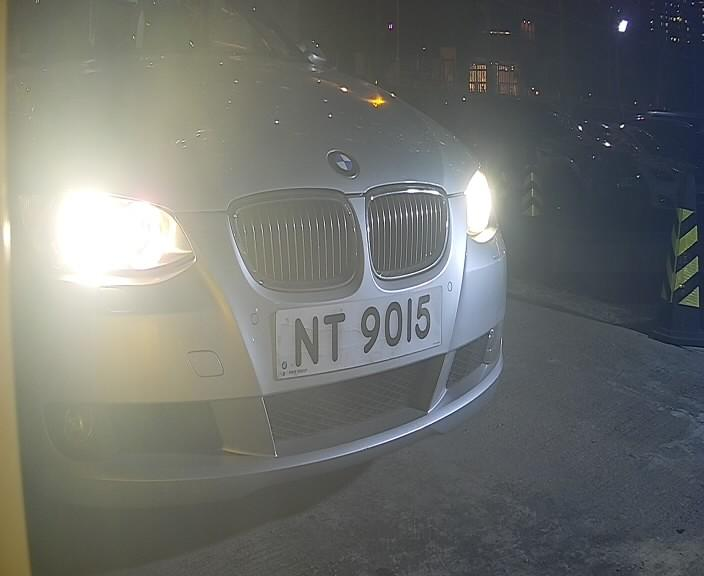Car: (7, 26, 620, 525)
License Plate: (236, 278, 488, 397)
